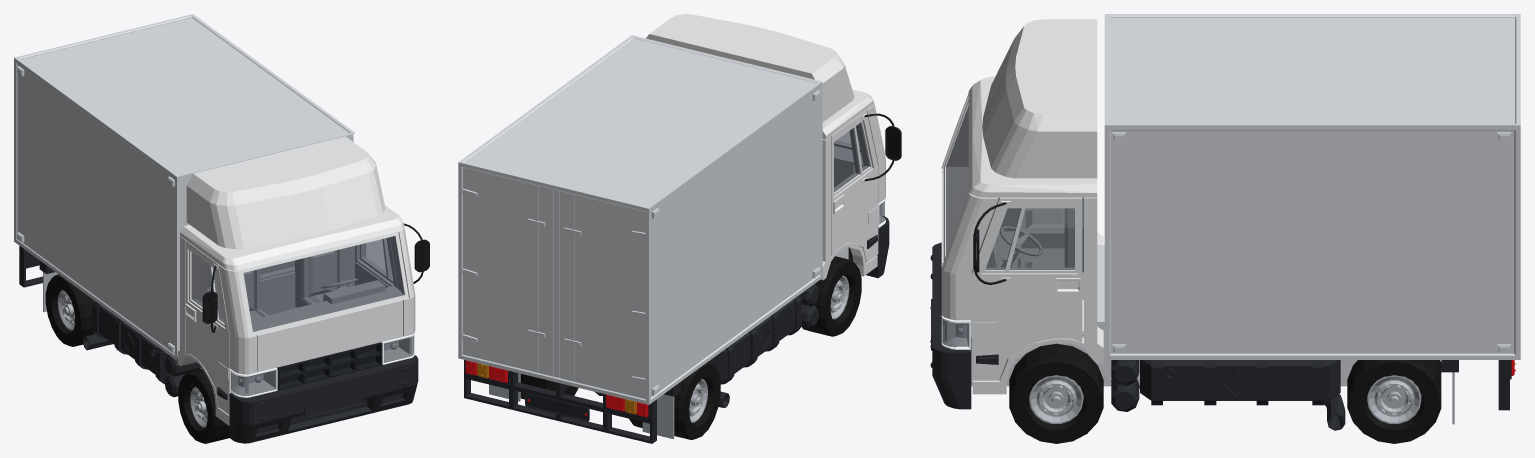
Rendered from truck.glb.
3 renders of one model, left to right at view 1: azimuth 30°, elevation 25°; view 2: azimuth 150°, elevation 25°; view 3: azimuth 270°, elevation 25°, orthographic. The views are drawn at different scales.
Visible parts, largest first — view 1: cab, glass, lamp; view 2: cab, glass, tail; view 3: cab, glass, lamp.
Boxes of the visible parts, x1,y1,x2,y2 form: cab: (14,14,429,443); glass: (191,236,414,396); lamp: (229,332,415,397); cab: (458,14,901,443); glass: (834,123,884,224); tail: (465,360,648,417); cab: (930,14,1520,443); glass: (942,106,1083,347); lamp: (941,315,970,349).
Size of the model in its own units: 2.99 by 3.2 by 5.29.
Materials: 4 (4 with a texture image).
